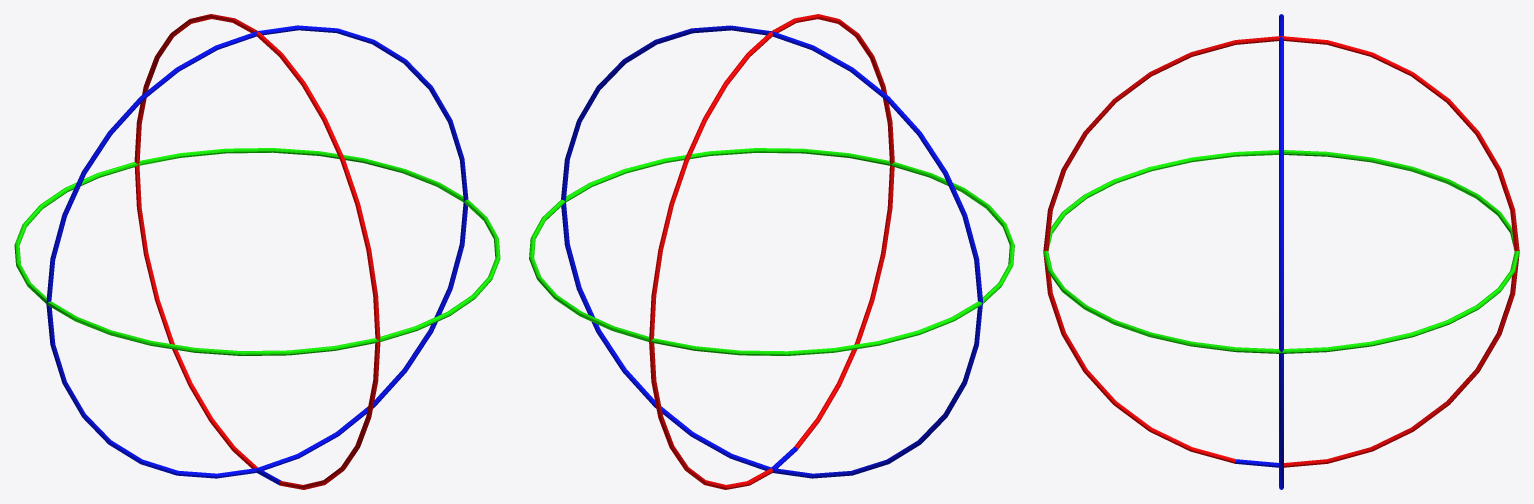
The model's file is Rotation.FBX.
3 renders of one model, left to right at view 1: azimuth 30°, elevation 25°; view 2: azimuth 150°, elevation 25°; view 3: azimuth 270°, elevation 25°, orthographic. The views are drawn at different scales.
Parts seen in each view (by area): view 1: Rotation; view 2: Rotation; view 3: Rotation.
Boxes of the visible parts, bbox=[...] form: Rotation: bbox=[14, 14, 500, 489]; Rotation: bbox=[529, 14, 1014, 489]; Rotation: bbox=[1043, 14, 1519, 489].
Bounding box in the file's own units: 1.88 × 1.88 × 1.88.
